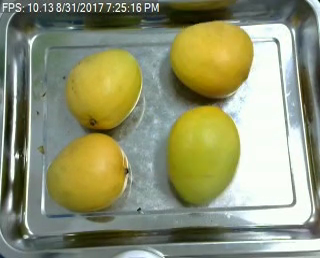Mango: (165, 105, 241, 206), (45, 132, 129, 213), (170, 20, 254, 99), (65, 50, 143, 131)
